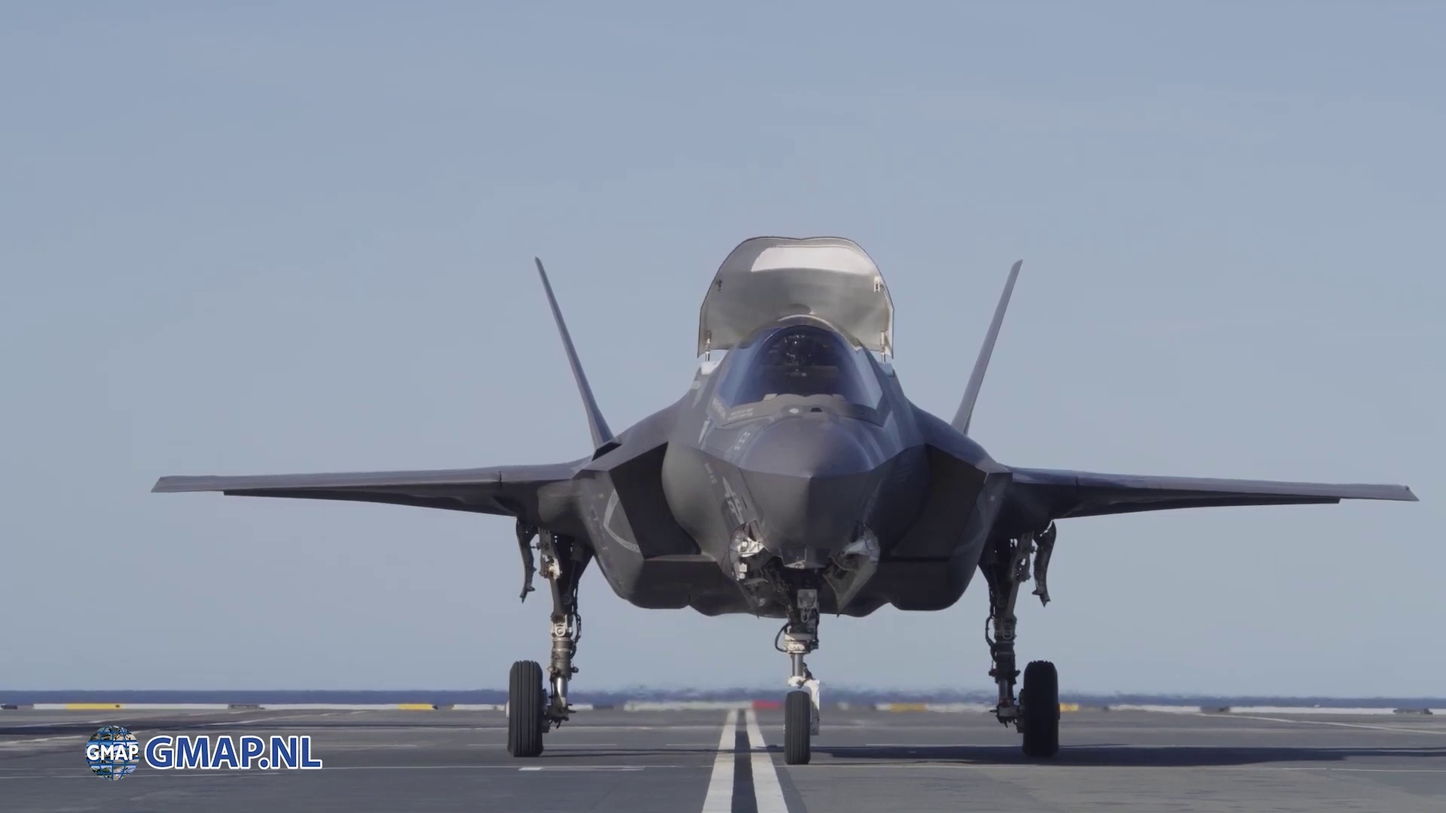F35: (147, 230, 1428, 762)
